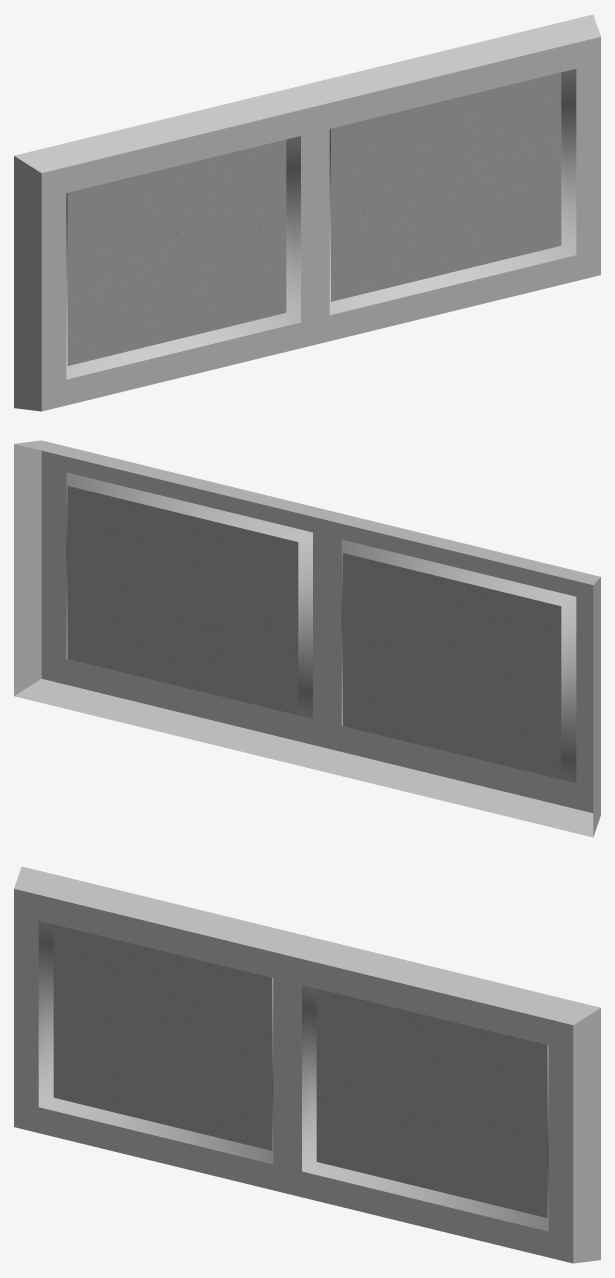
Rendered from stage4_window.fbx.
3 views of the same model, one above another, from view 1: azimuth 30°, elevation 25°; view 2: azimuth 150°, elevation 25°; view 3: azimuth 330°, elevation 25° (orthographic).
Parts seen in each view (by area): view 1: stage4_window; view 2: stage4_window; view 3: stage4_window.
Boxes of the visible parts, x1,y1,x2,y2 form: stage4_window: (14,14,600,411); stage4_window: (14,440,600,837); stage4_window: (14,866,600,1263).
Size of the model in its own units: 164 by 68.1 by 8.63.
